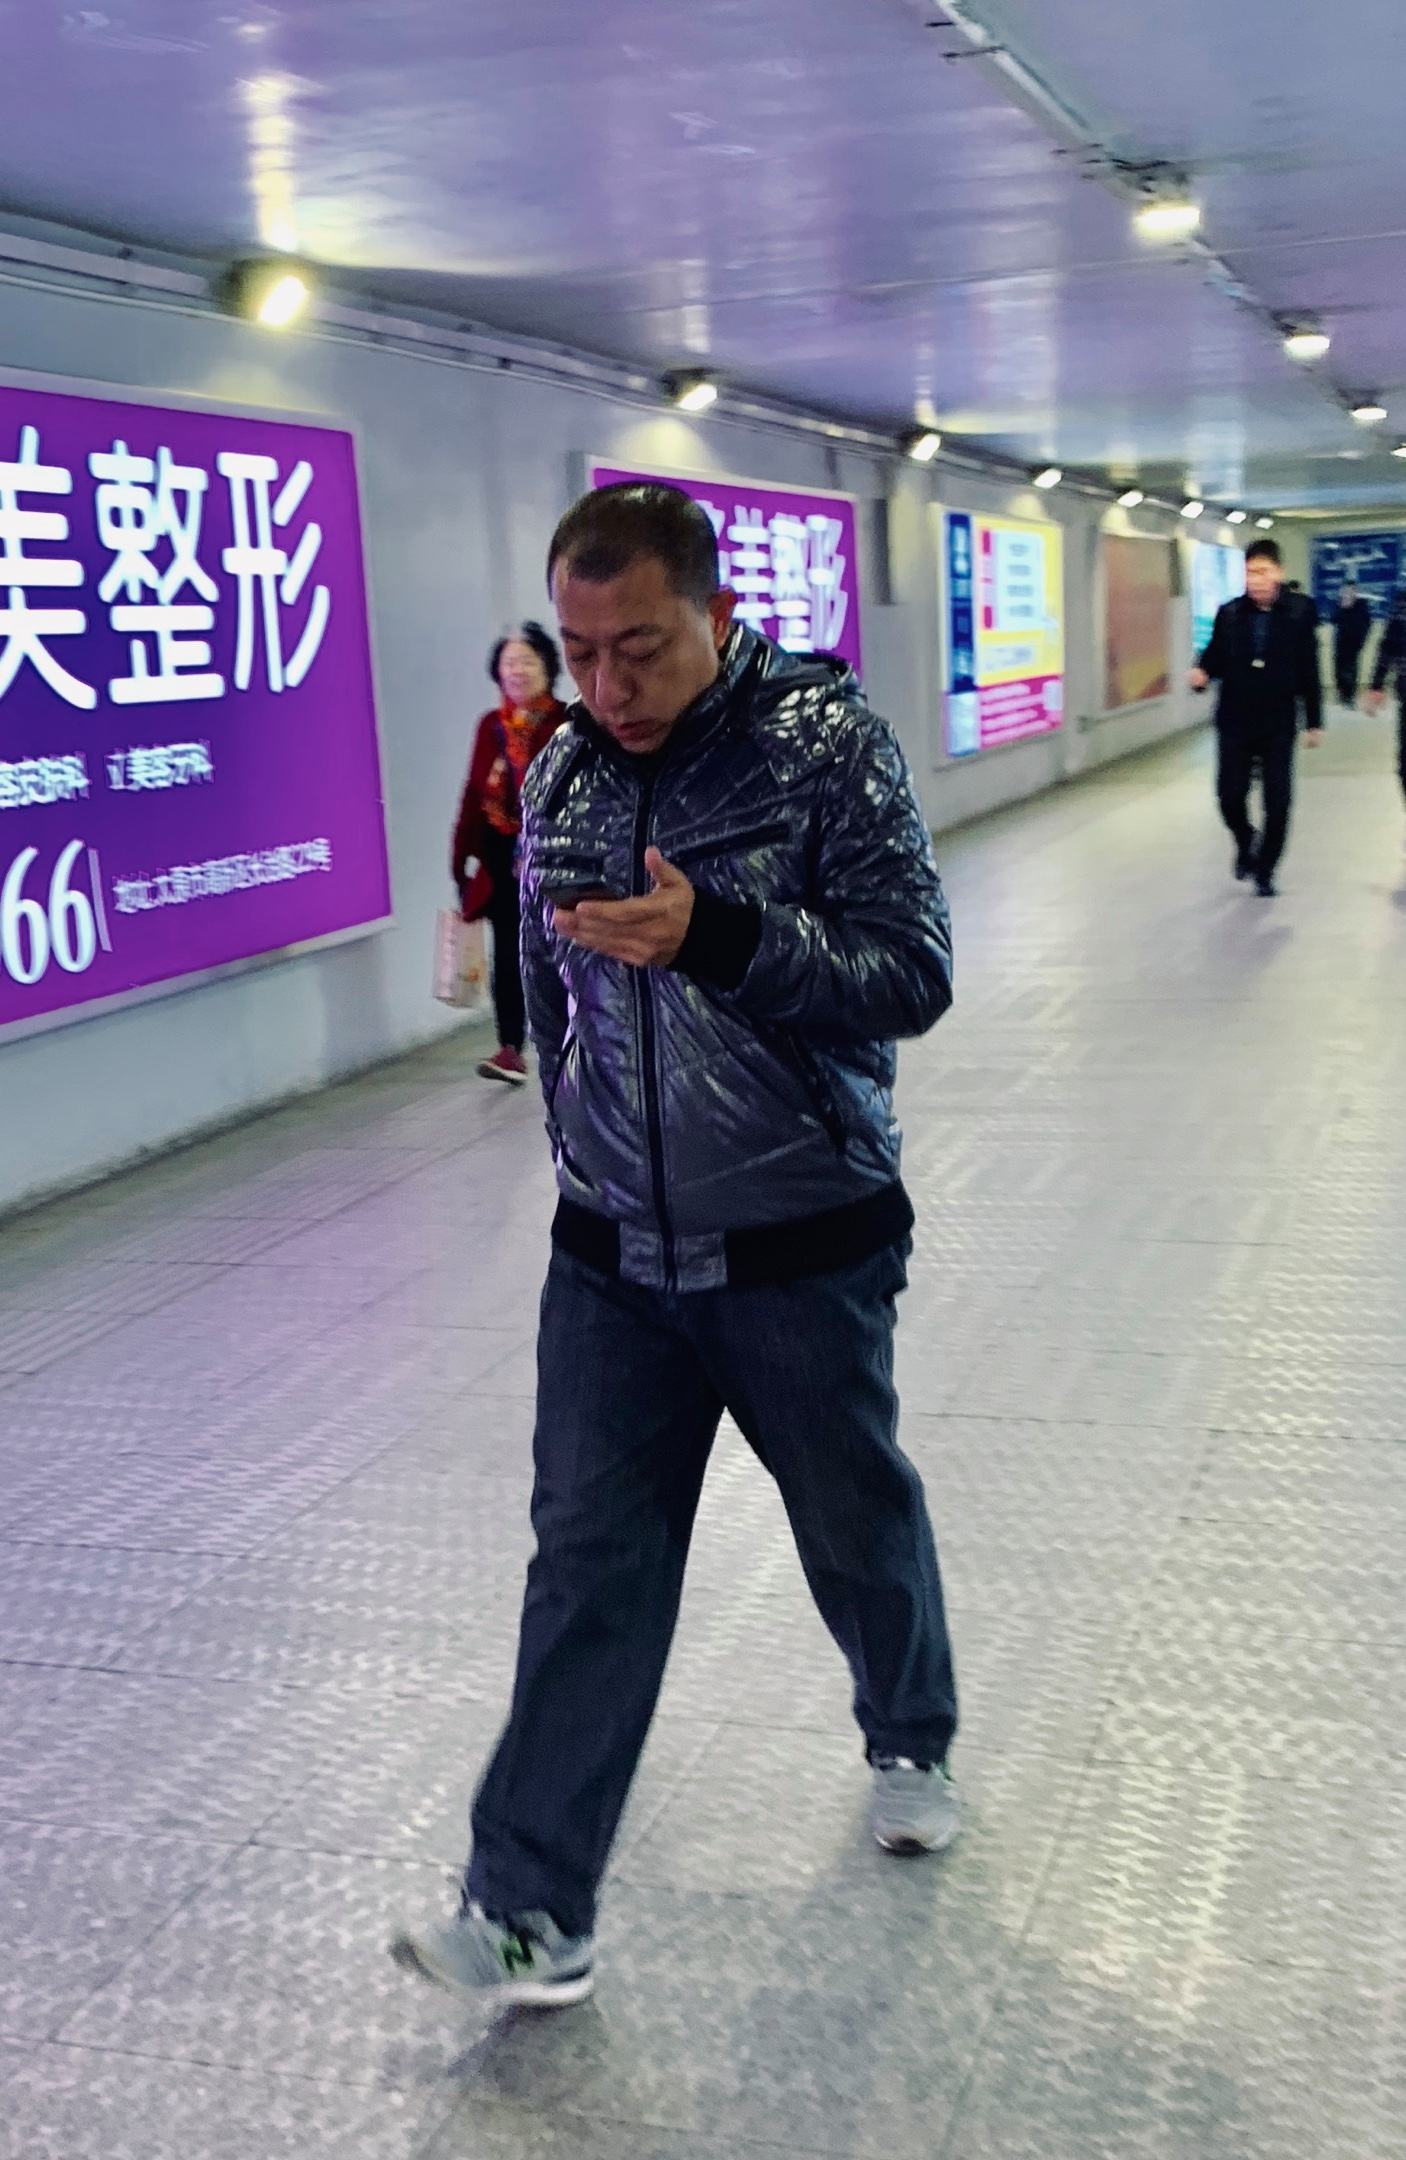reading: (529, 838, 697, 973)
